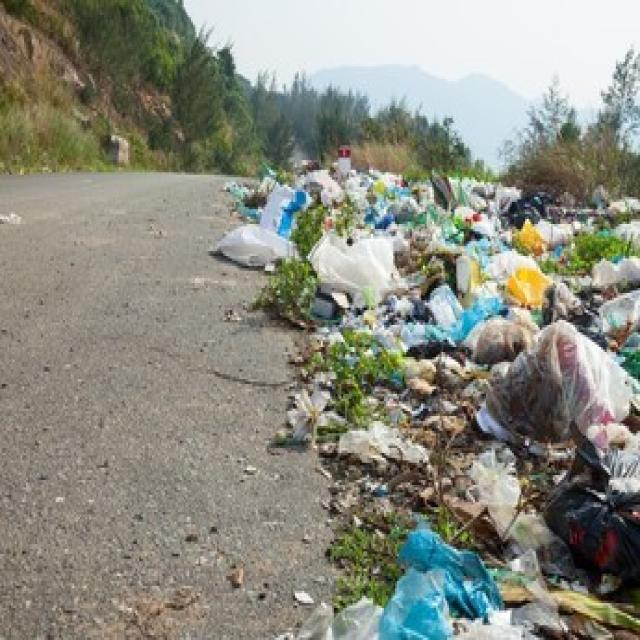garbage: (195, 128, 640, 640)
